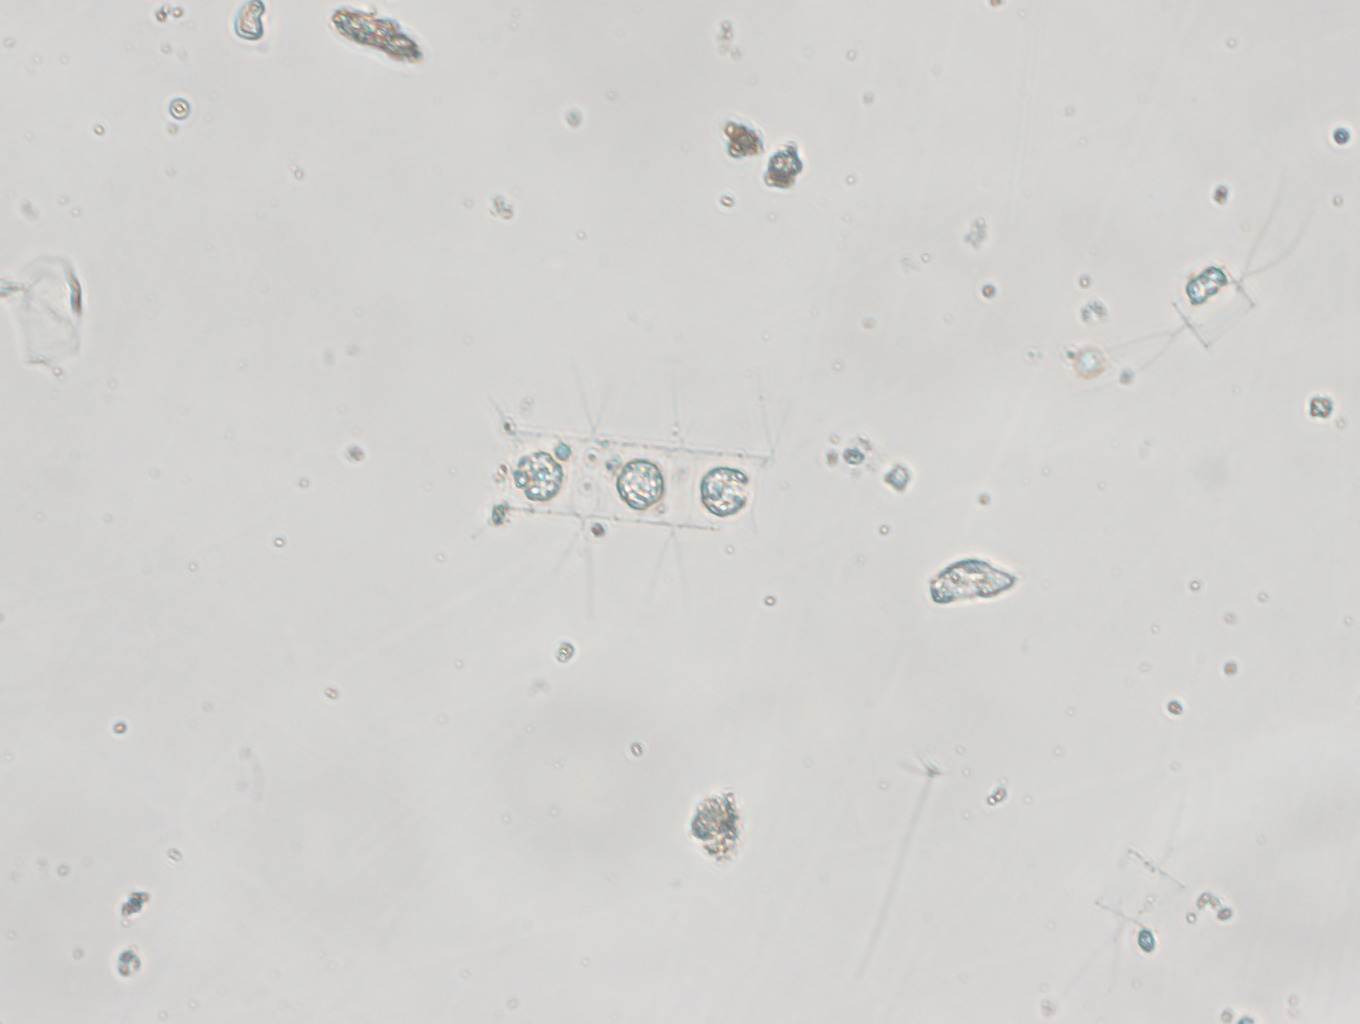chaetoceros: (475, 369, 797, 631)
